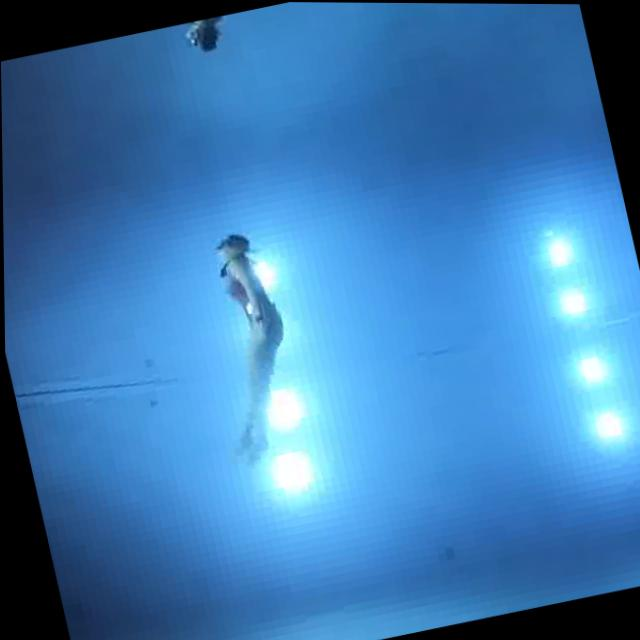human: (171, 208, 320, 477)
